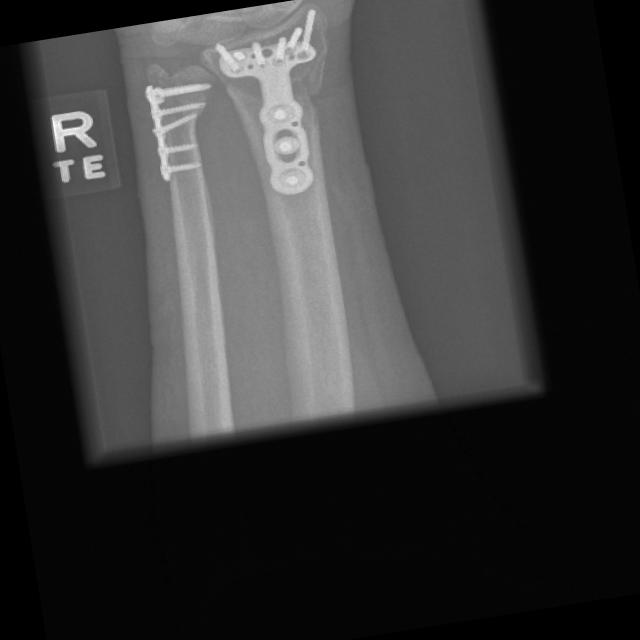wrist positive: (199, 30, 345, 123)
